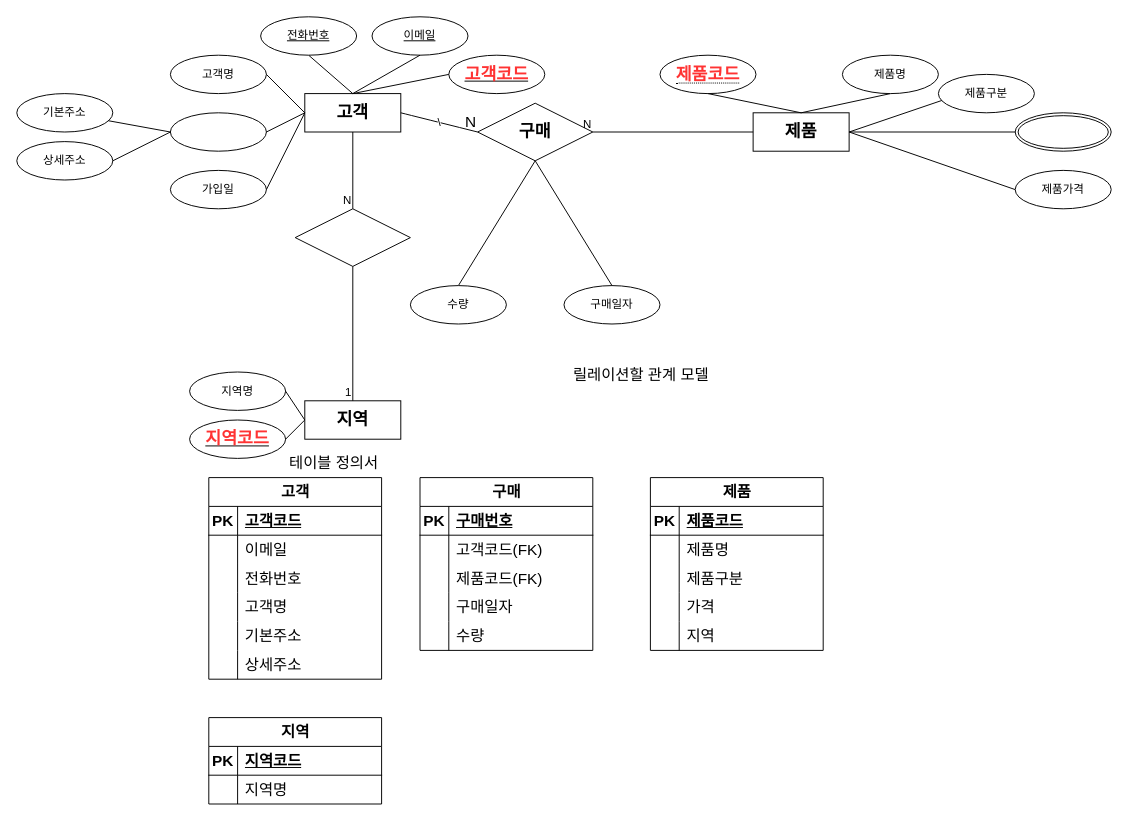
Image size: 1128x821. Some labels were removed from this diagram. The centre of each missing label's shape, as x and y in pixels:
"관리" goes at [352,237].
"제품색상" goes at [1062,131].
"주소" goes at [217,131].
